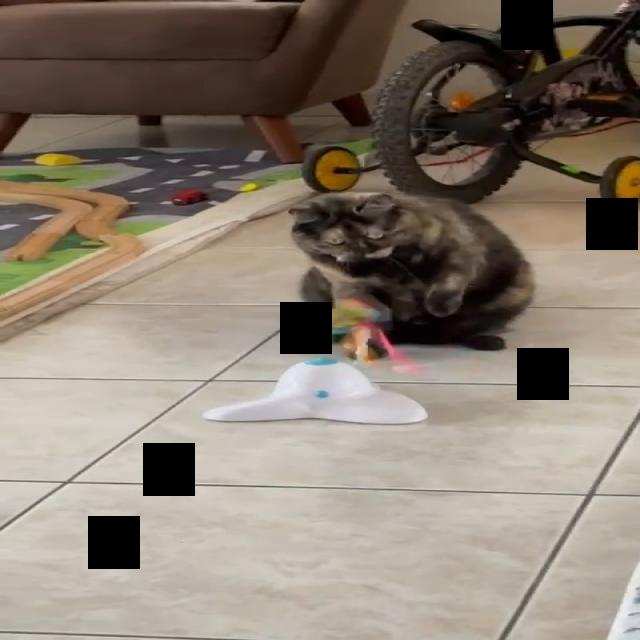authorized: (285, 190, 535, 351)
